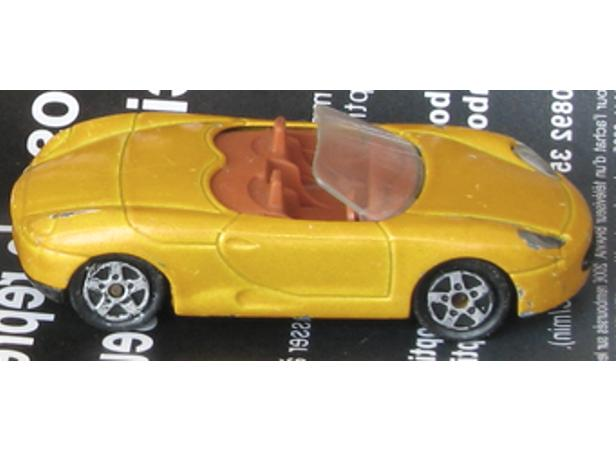toy-car: (10, 103, 596, 343)
